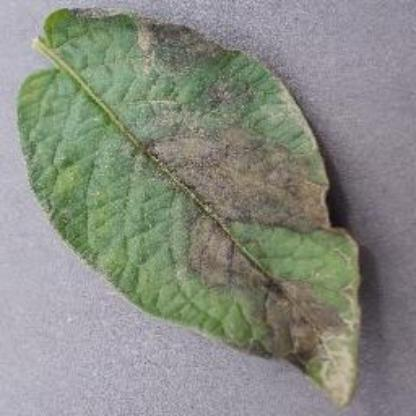Late-Blight: (13, 10, 404, 404)
